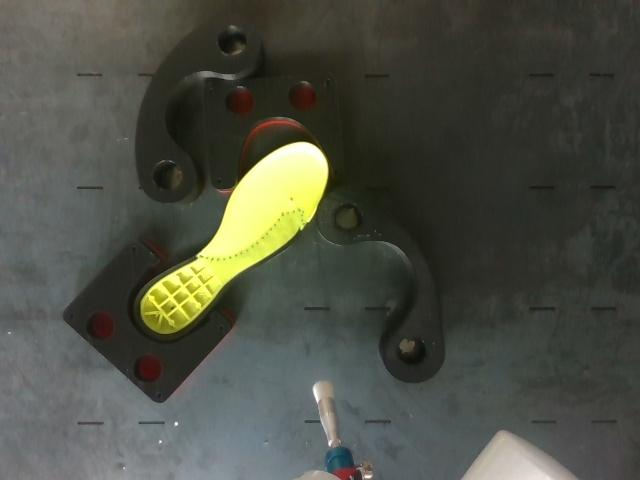shoes: (134, 142, 327, 339)
